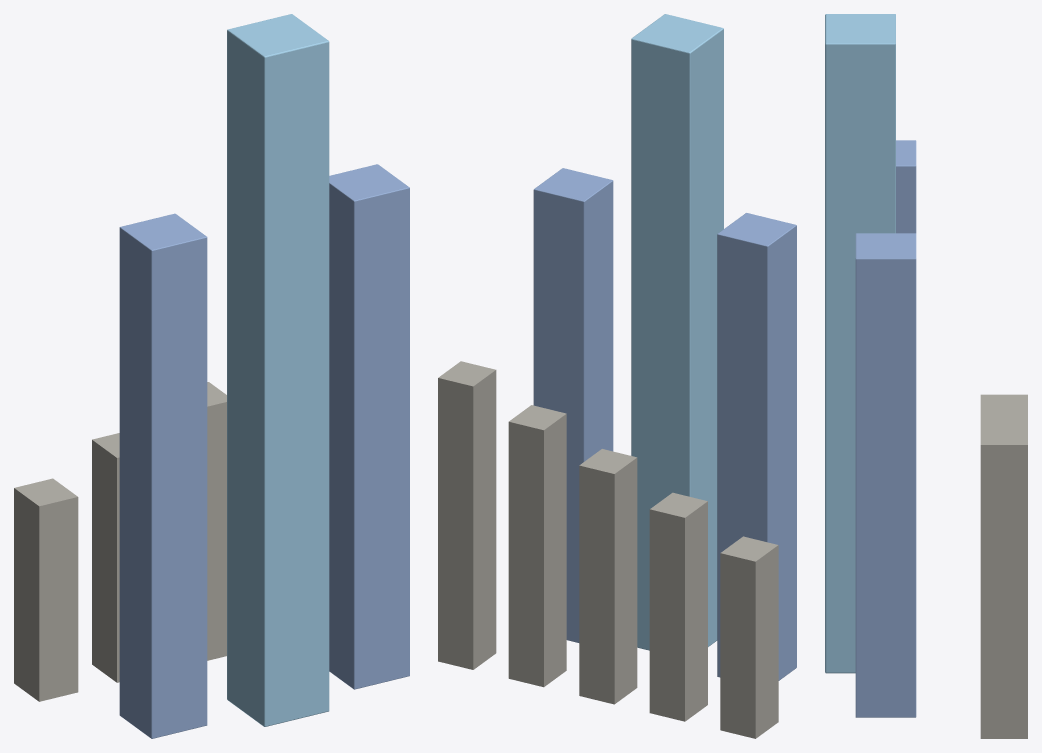
Rendered from HaeundaeSkyline_blockout.glb.
The picture shows the model from 3 angles, left to right: view 1: azimuth 30°, elevation 25°; view 2: azimuth 150°, elevation 25°; view 3: azimuth 270°, elevation 25°; orthographic projection. The views are drawn at different scales.
Visible parts, largest first — view 1: ENV10_HaeundaeSkyline_Landmark_L0, ENV10_HaeundaeSkyline_Residence0_L0, ENV10_HaeundaeSkyline_Residence1_L0, ENV10_HaeundaeSkyline_Background0_L0, ENV10_HaeundaeSkyline_Background1_L0, ENV10_HaeundaeSkyline_Background2_L0; view 2: ENV10_HaeundaeSkyline_Landmark_L0, ENV10_HaeundaeSkyline_Residence0_L0, ENV10_HaeundaeSkyline_Residence1_L0, ENV10_HaeundaeSkyline_Background4_L0, ENV10_HaeundaeSkyline_Background3_L0, ENV10_HaeundaeSkyline_Background2_L0, ENV10_HaeundaeSkyline_Background1_L0, ENV10_HaeundaeSkyline_Background0_L0; view 3: ENV10_HaeundaeSkyline_Residence1_L0, ENV10_HaeundaeSkyline_Landmark_L0, ENV10_HaeundaeSkyline_Background4_L0, ENV10_HaeundaeSkyline_Residence0_L0, ENV10_HaeundaeSkyline_Background0_L0, ENV10_HaeundaeSkyline_Background1_L0, ENV10_HaeundaeSkyline_Background3_L0, ENV10_HaeundaeSkyline_Background2_L0.
Part boxes in pixels (box(x1,y1,x2,y2)): ENV10_HaeundaeSkyline_Landmark_L0: box(227, 14, 329, 726); ENV10_HaeundaeSkyline_Residence0_L0: box(119, 213, 207, 738); ENV10_HaeundaeSkyline_Residence1_L0: box(329, 164, 409, 689); ENV10_HaeundaeSkyline_Background0_L0: box(14, 478, 78, 701); ENV10_HaeundaeSkyline_Background1_L0: box(92, 433, 119, 682); ENV10_HaeundaeSkyline_Background2_L0: box(207, 382, 226, 660); ENV10_HaeundaeSkyline_Landmark_L0: box(631, 14, 723, 650); ENV10_HaeundaeSkyline_Residence0_L0: box(717, 213, 796, 680); ENV10_HaeundaeSkyline_Residence1_L0: box(533, 168, 613, 642); ENV10_HaeundaeSkyline_Background4_L0: box(438, 361, 496, 669); ENV10_HaeundaeSkyline_Background3_L0: box(508, 405, 566, 687); ENV10_HaeundaeSkyline_Background2_L0: box(579, 449, 637, 704); ENV10_HaeundaeSkyline_Background1_L0: box(649, 492, 707, 721); ENV10_HaeundaeSkyline_Background0_L0: box(720, 536, 778, 738); ENV10_HaeundaeSkyline_Residence1_L0: box(855, 233, 916, 717); ENV10_HaeundaeSkyline_Landmark_L0: box(825, 14, 895, 673); ENV10_HaeundaeSkyline_Background4_L0: box(980, 427, 1027, 738); ENV10_HaeundaeSkyline_Residence0_L0: box(896, 140, 916, 233); ENV10_HaeundaeSkyline_Background0_L0: box(980, 394, 1027, 402); ENV10_HaeundaeSkyline_Background1_L0: box(980, 402, 1027, 410); ENV10_HaeundaeSkyline_Background3_L0: box(980, 419, 1027, 427); ENV10_HaeundaeSkyline_Background2_L0: box(980, 411, 1027, 418).
Size of the model in its own units: 225 by 412 by 120.
